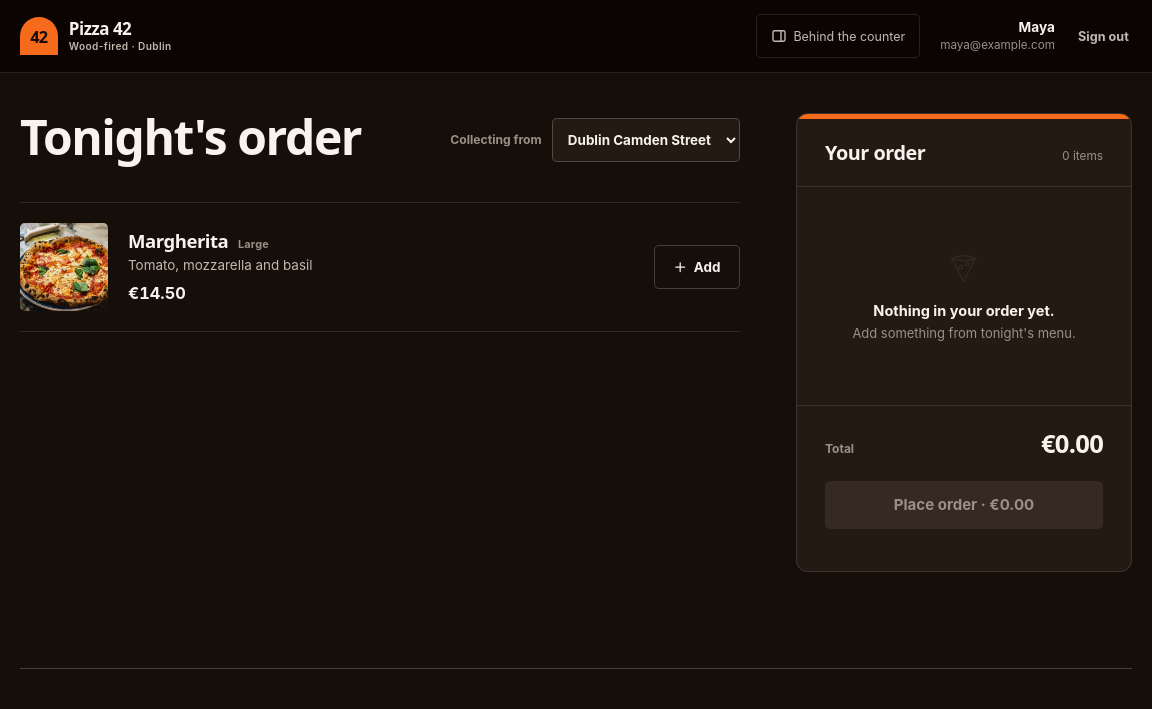
Test case: Pizza 42 ordering experience › lets an authenticated customer add an API menu item to the basket
The width and height of the screenshot is (1152, 709).
Click the button with aria-label "Add Margherita": (697, 267) [654, 245, 740, 289]
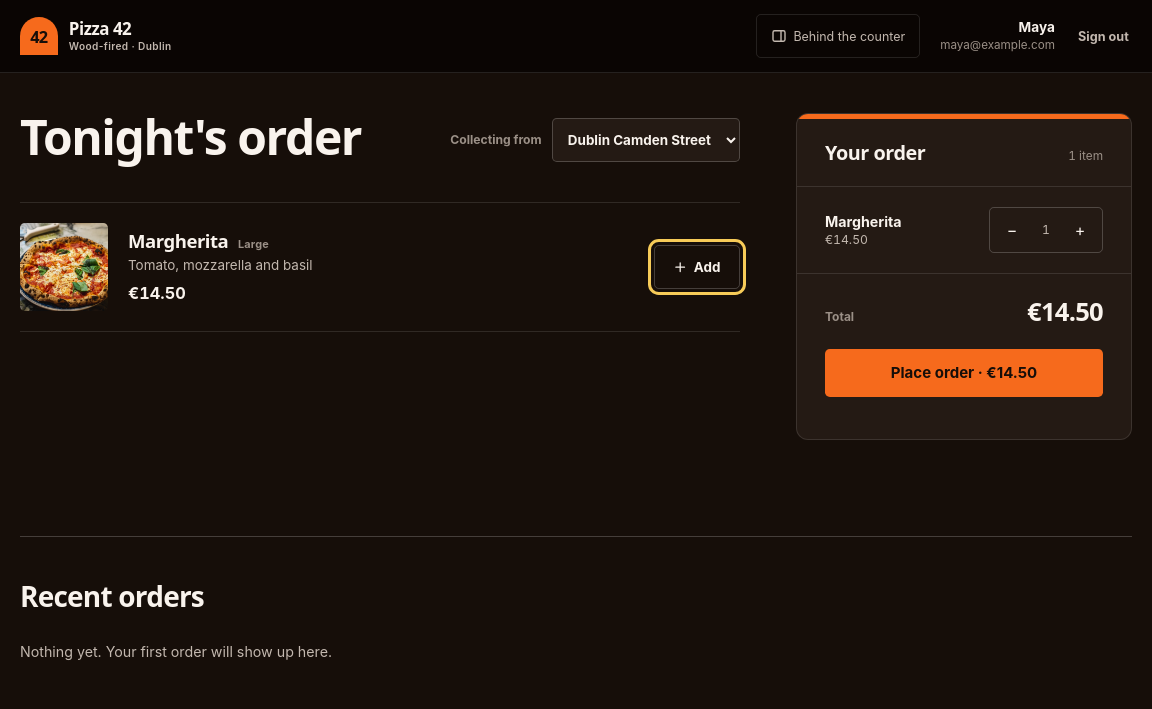
Expected: the text "1 item" is shown, [1068, 149, 1103, 163]
Expected: the button "Place order · €14.50" is enabled, [825, 349, 1103, 397]
